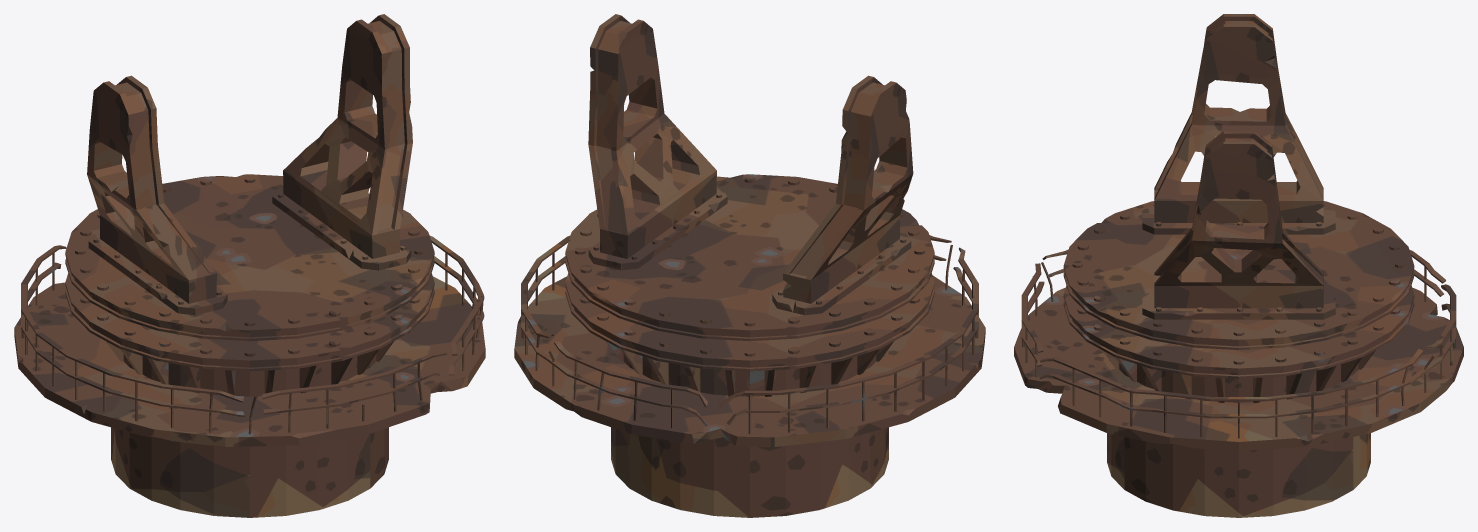
File: SM_Bld_Scav_Dish_Base_01.fbx
3 views of the same model, side by side, from view 1: azimuth 30°, elevation 25°; view 2: azimuth 150°, elevation 25°; view 3: azimuth 270°, elevation 25° (orthographic). The views are drawn at different scales.
Visible parts, largest first — view 1: SM_Bld_Scav_Dish_Base_01; view 2: SM_Bld_Scav_Dish_Base_01; view 3: SM_Bld_Scav_Dish_Base_01.
Boxes of the visible parts, left/top/right/bottom form: SM_Bld_Scav_Dish_Base_01: left=14, top=14, right=485, bottom=517; SM_Bld_Scav_Dish_Base_01: left=514, top=14, right=985, bottom=517; SM_Bld_Scav_Dish_Base_01: left=1014, top=14, right=1463, bottom=517.
Size of the model in its own units: 3665 by 3453 by 3665.
